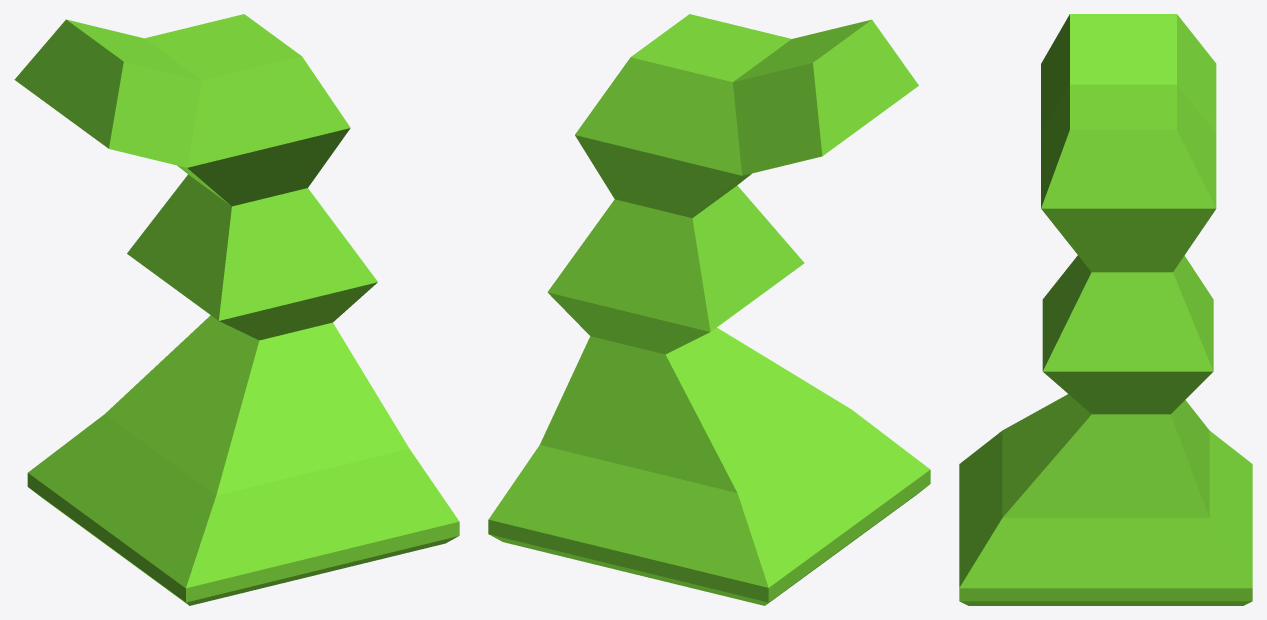
3 views of the same model, side by side, from view 1: azimuth 30°, elevation 25°; view 2: azimuth 150°, elevation 25°; view 3: azimuth 270°, elevation 25° (orthographic). The views are drawn at different scales.
Visible parts, largest first — view 1: Love; view 2: Love; view 3: Love.
Part boxes in pixels (left/top/right/bottom): Love: left=14, top=14, right=459, bottom=605; Love: left=488, top=14, right=930, bottom=605; Love: left=959, top=14, right=1252, bottom=605.
Size of the model in its own units: 2240 by 3542 by 2000.
